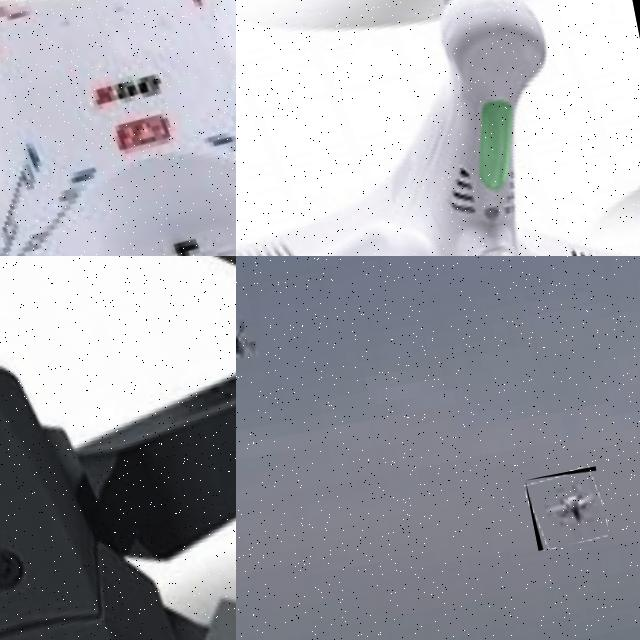drone: (236, 0, 640, 256), (0, 256, 236, 640), (0, 0, 236, 256), (525, 466, 609, 550)
